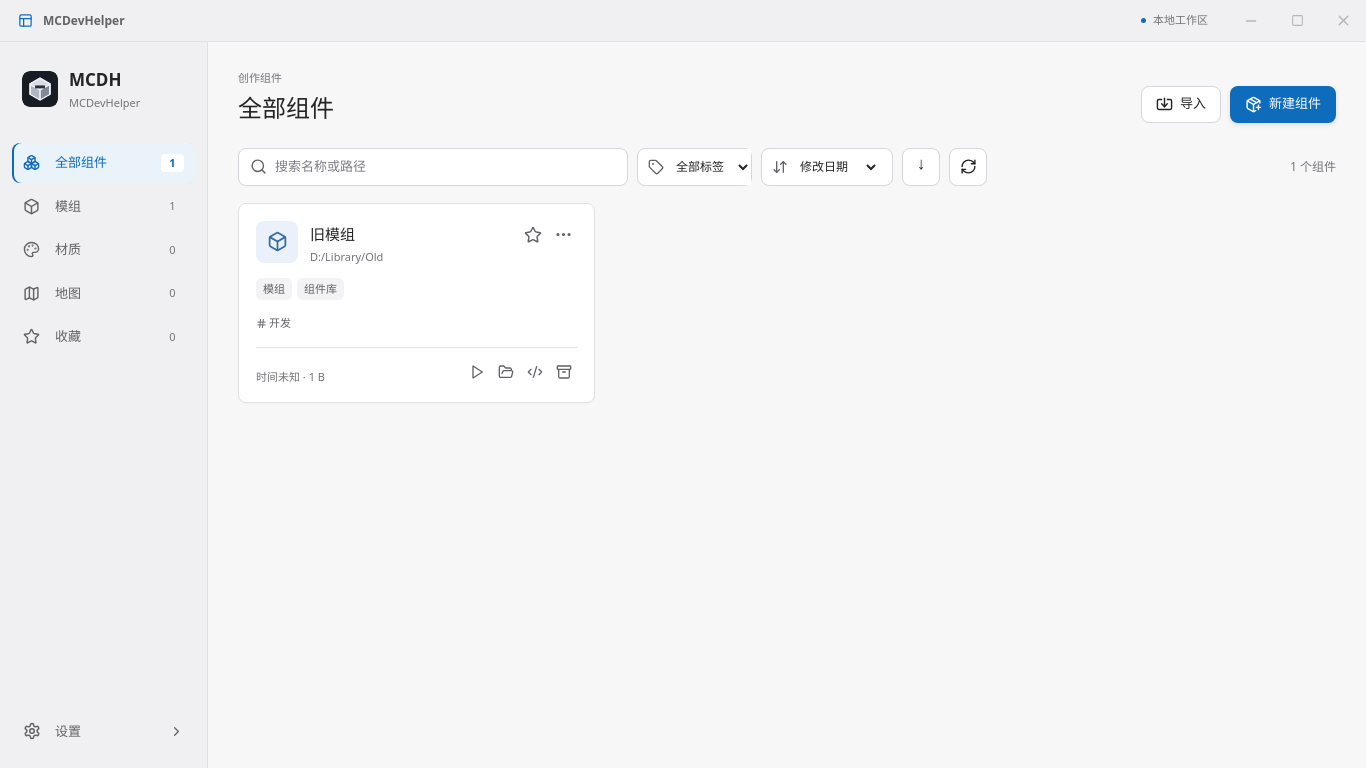
Scenario: component workspace filters › adds the import result without refreshing or resetting filters
Check: the heading "旧模组" is shown, box 310,224 -> 355,244
Step 1. Type "模组" into the field with placeholder "搜索名称或路径" → (446, 167), box 275,157 -> 616,176
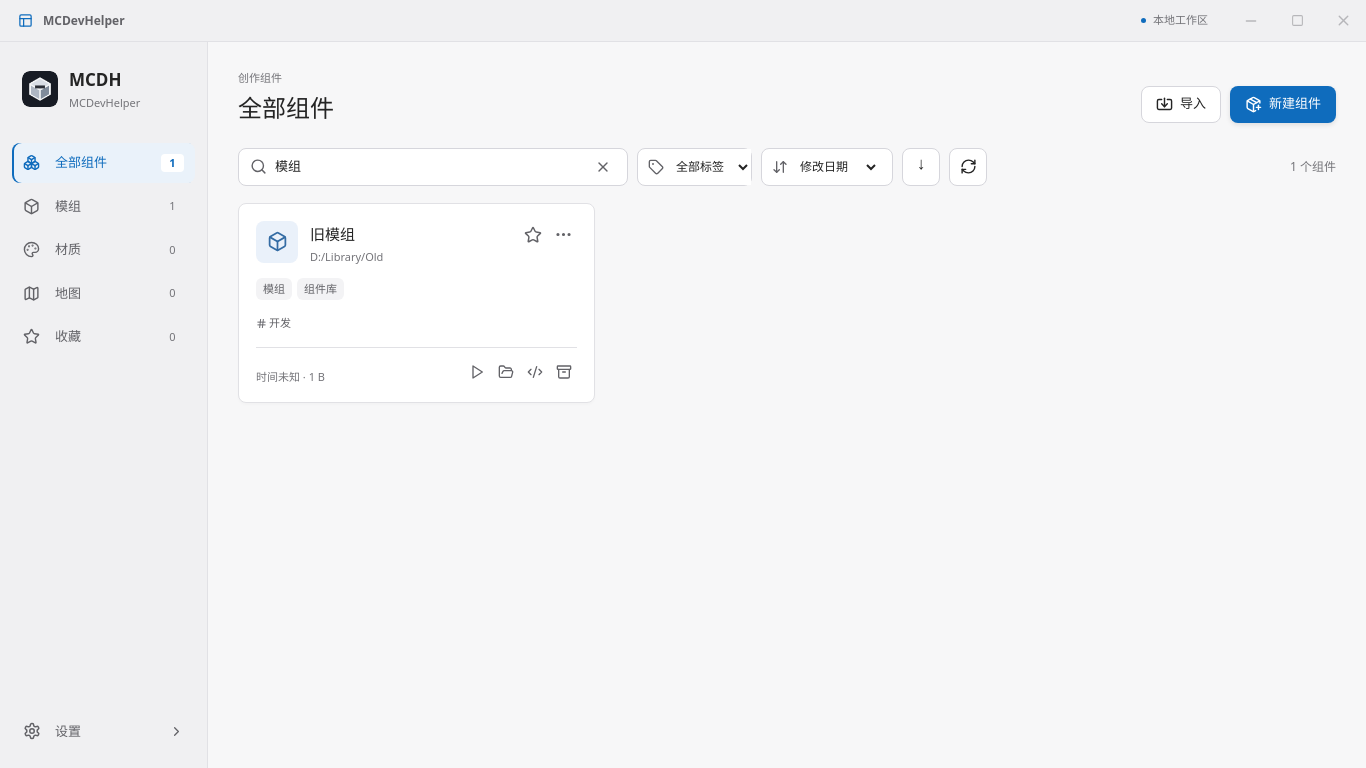
Step 2. Click the button "导入" → (1181, 104), box 1141,86 -> 1221,123
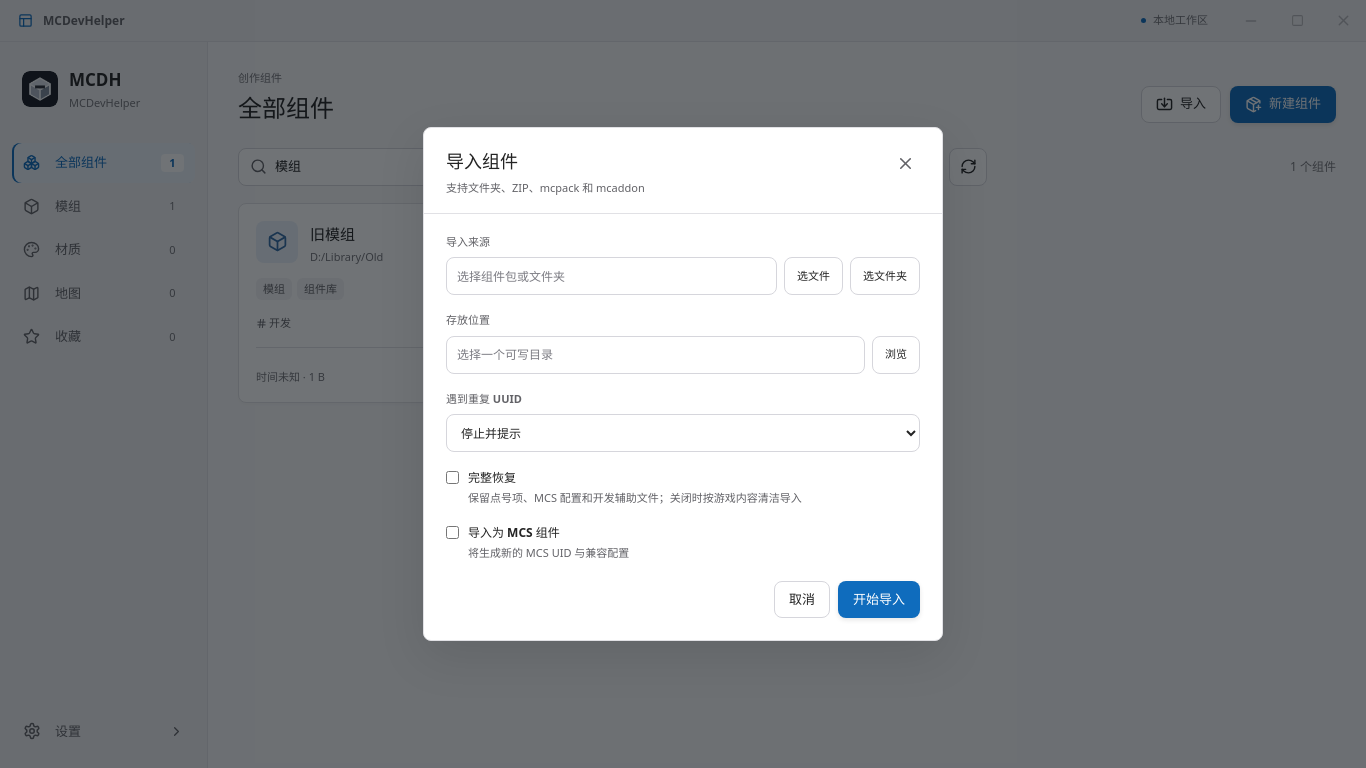
Step 3. Type "D:/Incoming.zip" into the field labelled "导入来源 选文件 选文件夹" → (612, 276), box 446,257 -> 777,295
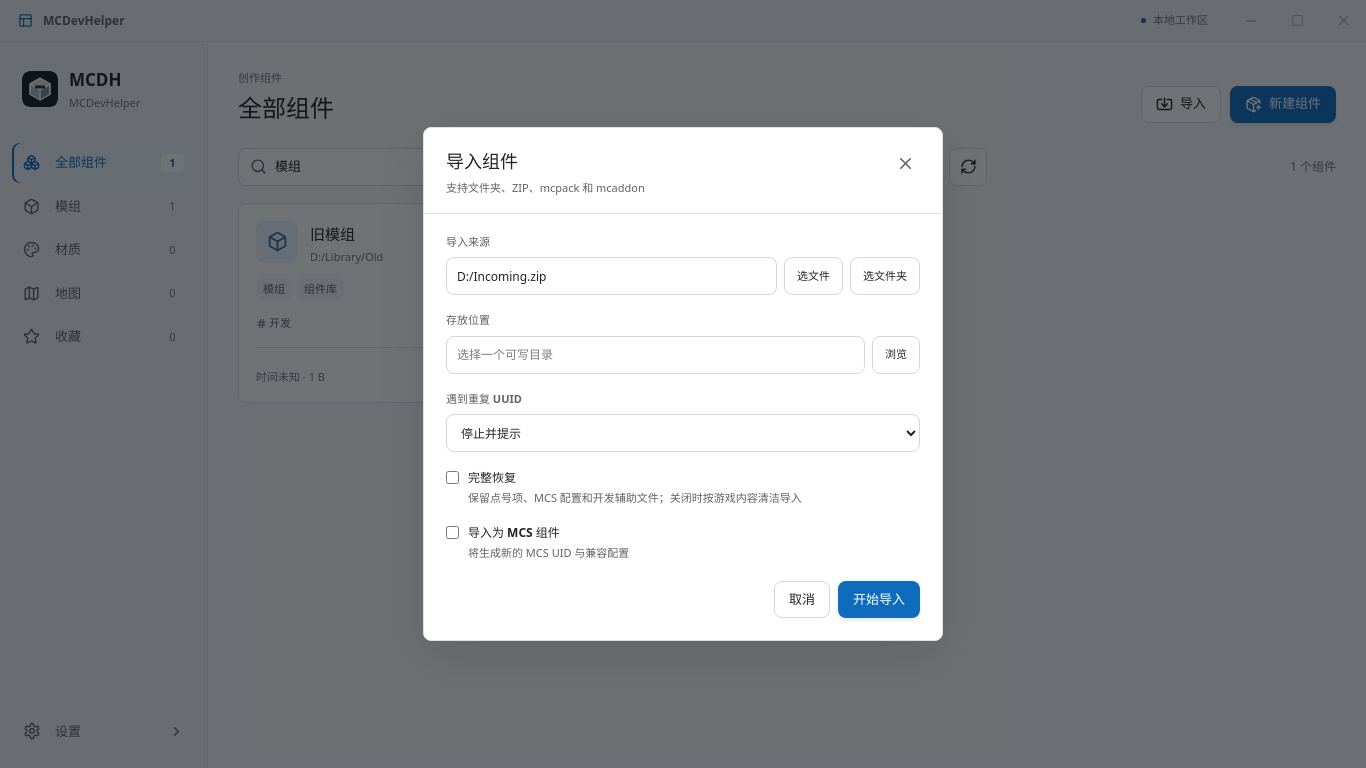
Step 4. Type "D:/Library" into the field labelled "存放位置 浏览" → (656, 354), box 446,336 -> 865,374
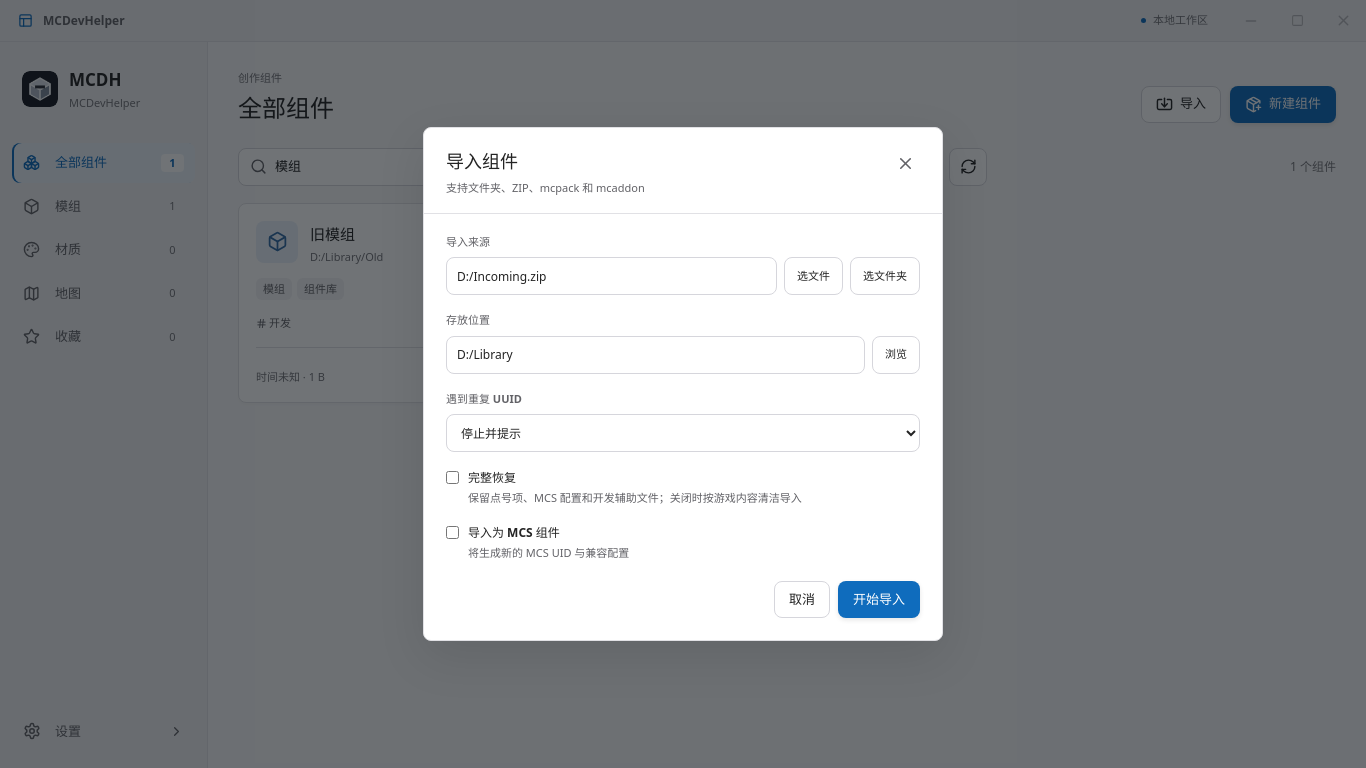
Step 5. Click the button "开始导入" → (879, 600), box 838,581 -> 920,618
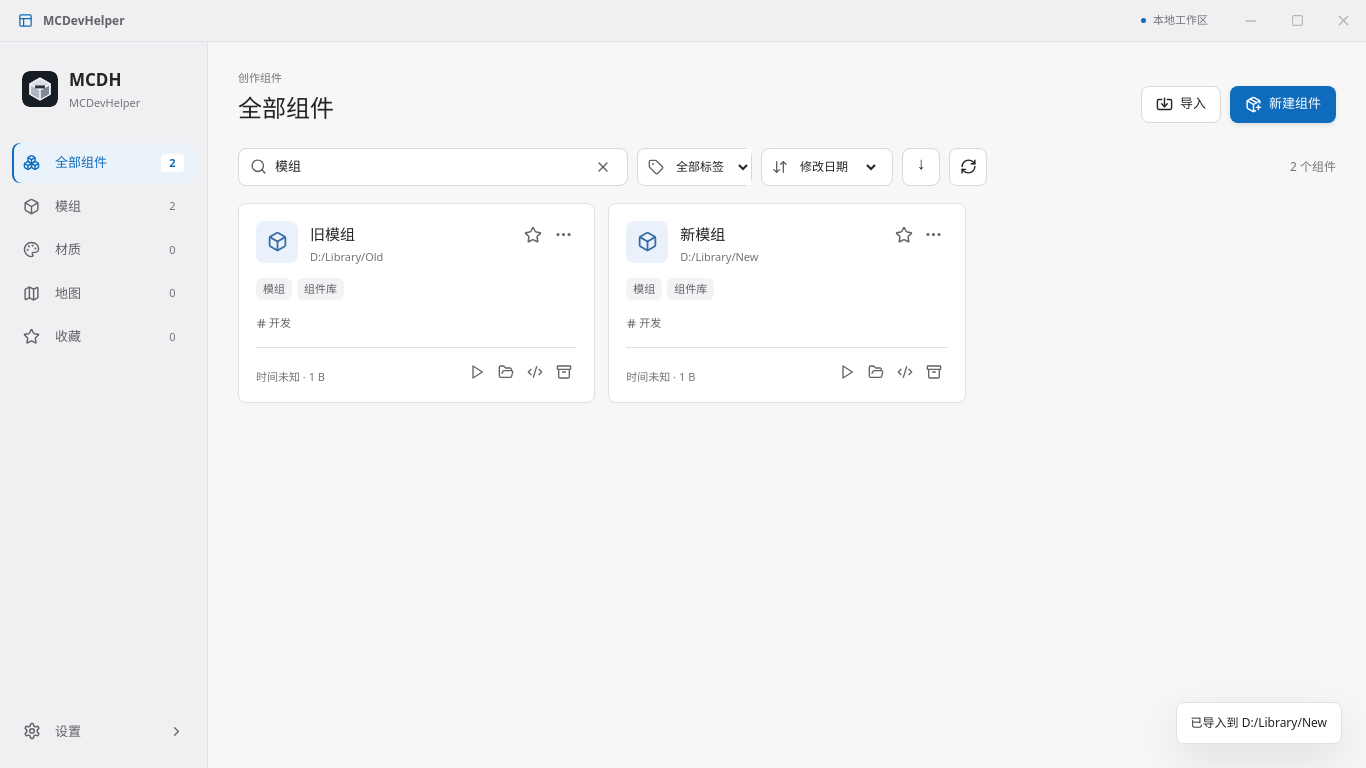
Check: the heading "旧模组" is shown, box 310,224 -> 355,244
Check: the heading "新模组" is shown, box 680,224 -> 725,244
